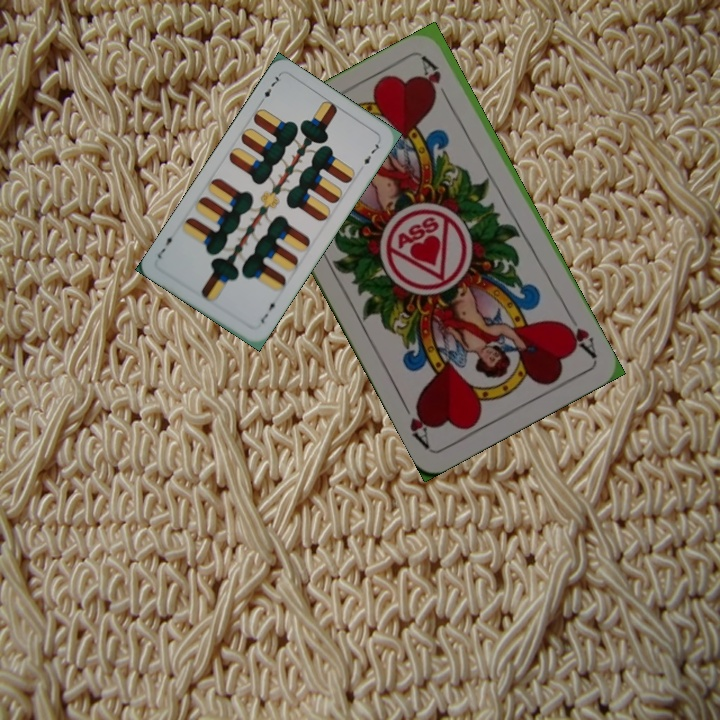E7: (256, 296, 281, 326), (260, 71, 284, 100)
HA: (557, 308, 599, 361)
